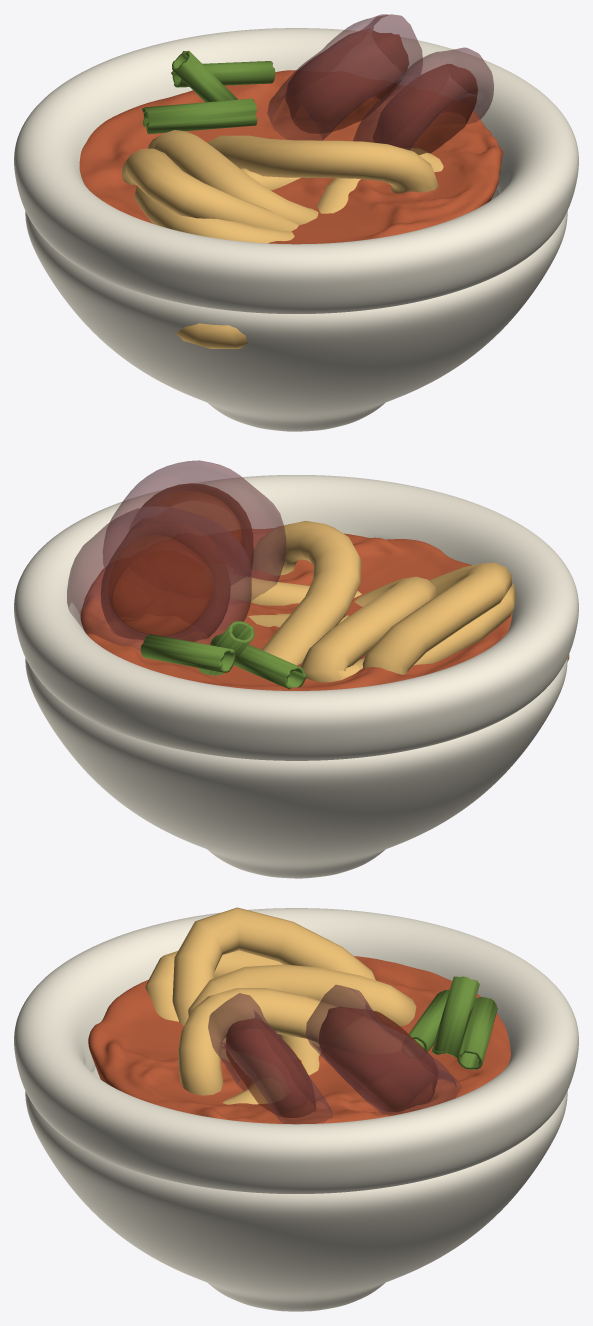
Rendered from beefNoodle.glb.
3 renders of one model, top to bottom at view 1: azimuth 30°, elevation 25°; view 2: azimuth 150°, elevation 25°; view 3: azimuth 270°, elevation 25°, orthographic.
Visible parts, largest first — view 1: noodle, BezierCurve.003; view 2: noodle, BezierCurve.003; view 3: noodle, BezierCurve.003.
Part boxes in pixels (x1,y1,x2,y2): noodle: (14,14,578,431); BezierCurve.003: (122,130,443,348); noodle: (14,460,578,878); BezierCurve.003: (230,521,569,682); noodle: (14,908,578,1311); BezierCurve.003: (145,907,416,1104).
Size of the model in its own units: 0.6265 by 0.4146 by 0.6265.
